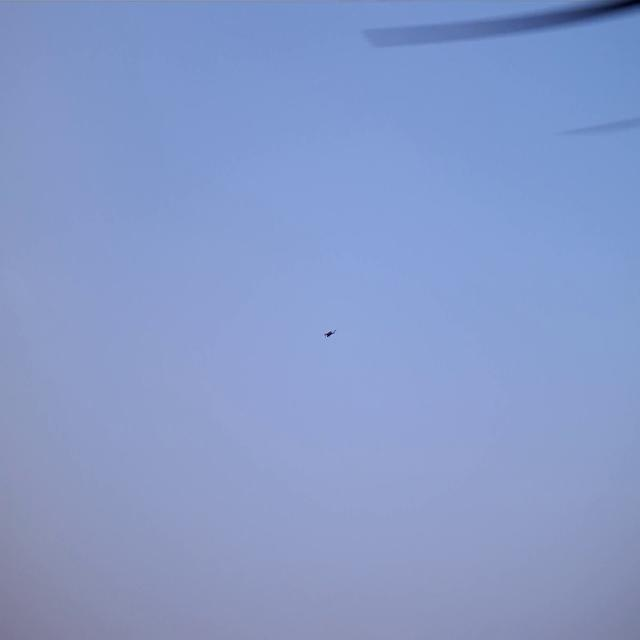UAV: (323, 327, 336, 338)
